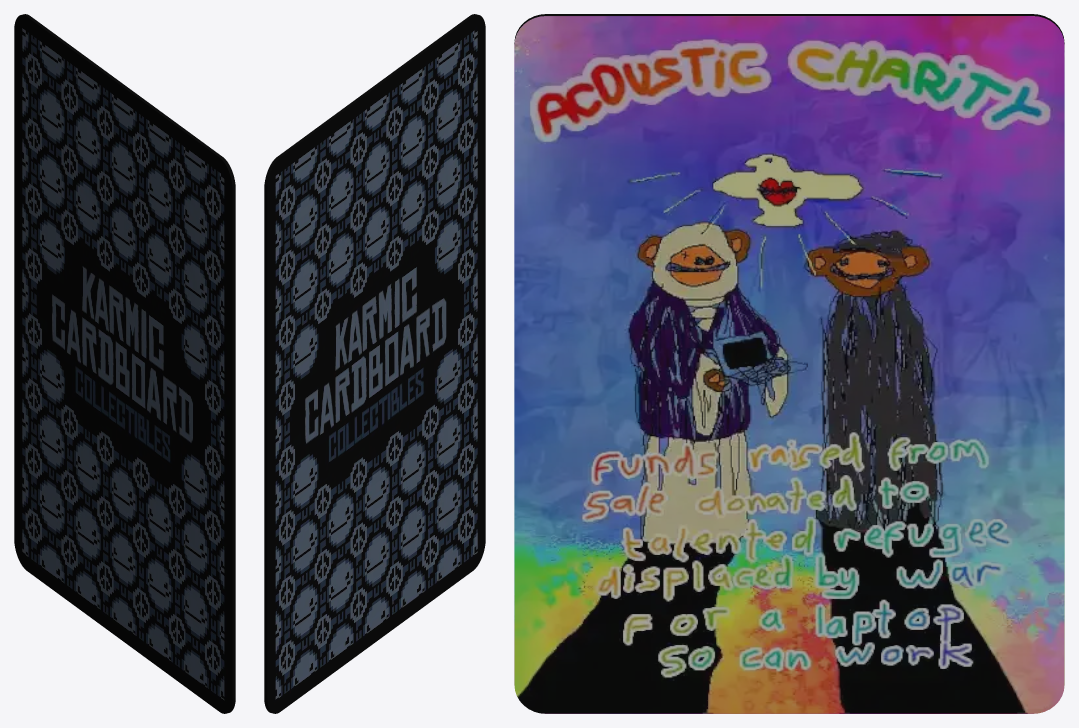
Rendered from card-transformed.glb.
The picture shows the model from 3 angles, left to right: view 1: azimuth 30°, elevation 25°; view 2: azimuth 150°, elevation 25°; view 3: azimuth 270°, elevation 25°; orthographic projection. The views are drawn at different scales.
Parts seen in each view (by area): view 1: card; view 2: card; view 3: card.
Part boxes in pixels (x1=…): card: x1=14, y1=14, x2=235, y2=713; card: x1=264, y1=14, x2=485, y2=713; card: x1=514, y1=14, x2=1064, y2=713.
Bounding box in the file's own units: 0.00502 × 0.84 × 0.6.
3 materials, 2 textured.
